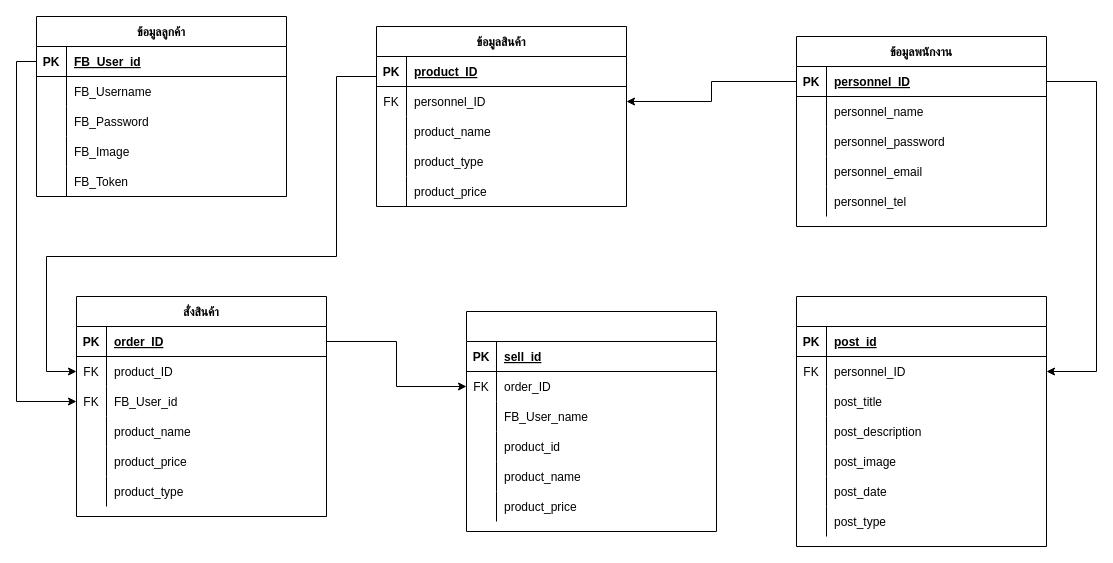
The diagram is 1113 pixels wide and 563 high, and some of its shapes have lost their labels. Each missing label, with the box of its shape:
ขายสินค้า: (466, 310, 716, 532)
ข้อมูลข่าวสาร: (796, 296, 1046, 546)
